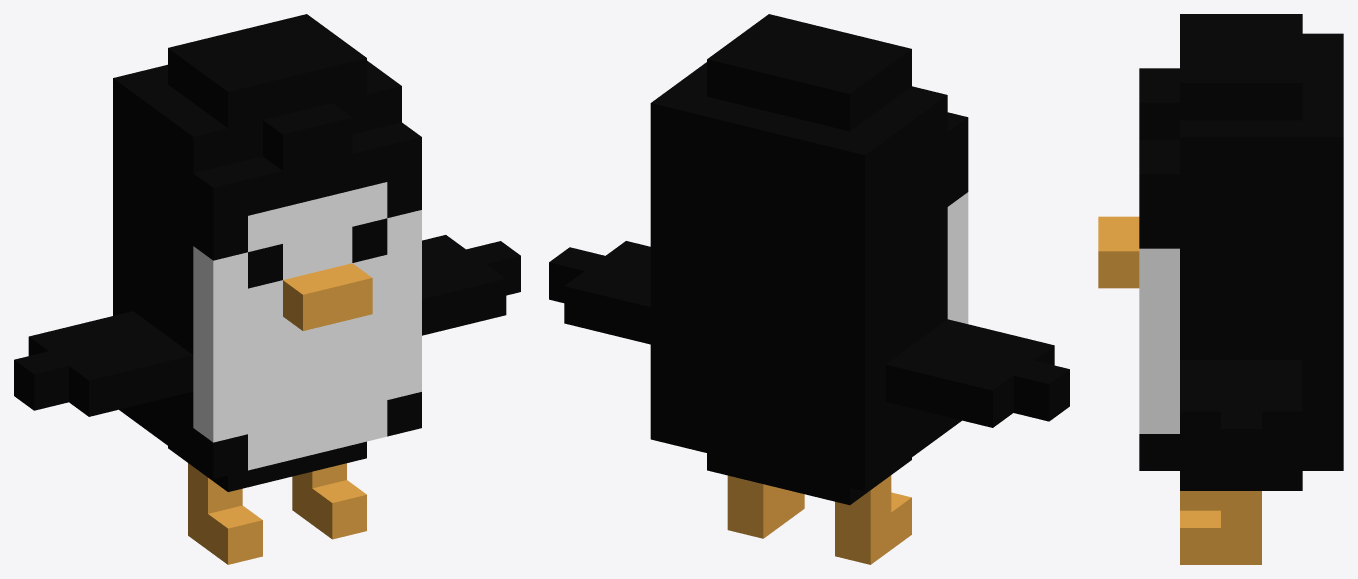
The model's file is pinguidesnudo.fbx.
3 views of the same model, side by side, from view 1: azimuth 30°, elevation 25°; view 2: azimuth 150°, elevation 25°; view 3: azimuth 270°, elevation 25° (orthographic). The views are drawn at different scales.
Parts seen in each view (by area): view 1: pingui_desnudo:polySurface1; view 2: pingui_desnudo:polySurface1; view 3: pingui_desnudo:polySurface1.
Part boxes in pixels (x1,y1,x2,y2): pingui_desnudo:polySurface1: [14, 14, 520, 564]; pingui_desnudo:polySurface1: [549, 14, 1069, 564]; pingui_desnudo:polySurface1: [1098, 14, 1343, 564].
Bounding box in the file's own units: 14 × 13 × 6.
Materials: 1 (1 with a texture image).
